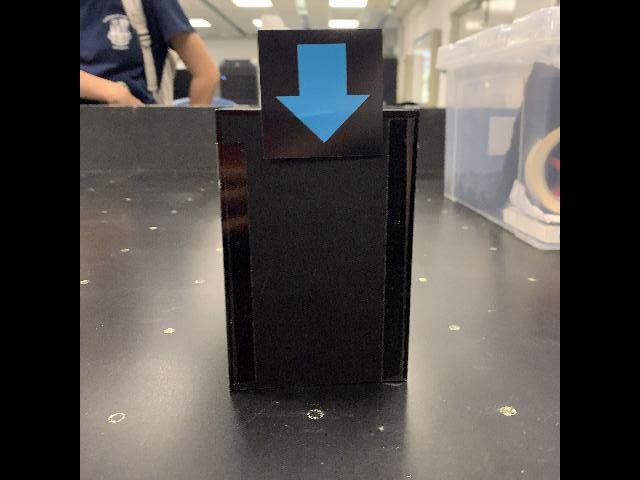down: (254, 27, 387, 163)
